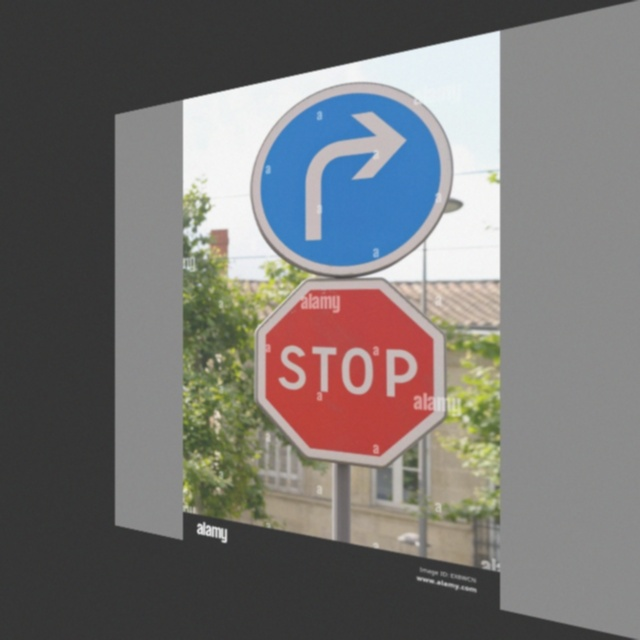Compulsory_Turn_Right_Ahead: (250, 64, 457, 277)
